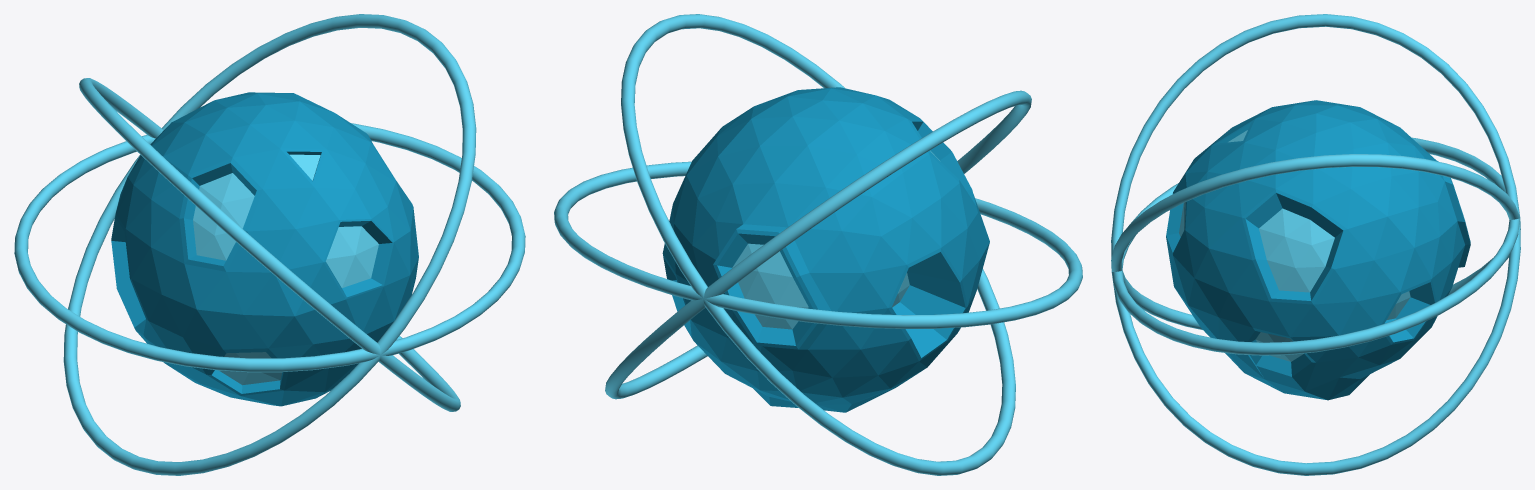
File: react-planet.glb
3 views of the same model, side by side, from view 1: azimuth 30°, elevation 25°; view 2: azimuth 150°, elevation 25°; view 3: azimuth 270°, elevation 25° (orthographic). The views are drawn at different scales.
Parts seen in each view (by area): view 1: ReactPlanet; view 2: ReactPlanet; view 3: ReactPlanet.
Boxes of the visible parts, left/top/right/bottom form: ReactPlanet: left=14, top=14, right=525, bottom=475; ReactPlanet: left=554, top=14, right=1082, bottom=475; ReactPlanet: left=1111, top=14, right=1520, bottom=475.
Bounding box in the file's own units: 3.43 × 2.46 × 2.86.
